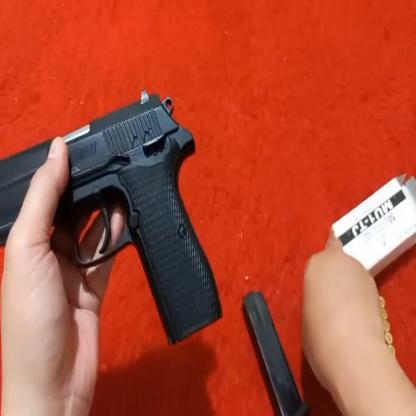handgun: (6, 90, 230, 362)
